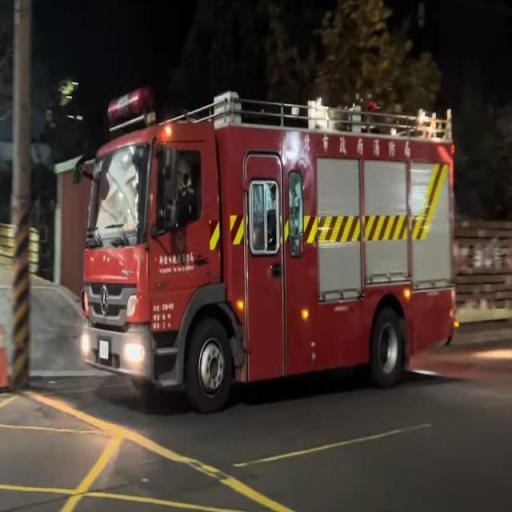fire truck: (76, 42, 464, 417)
